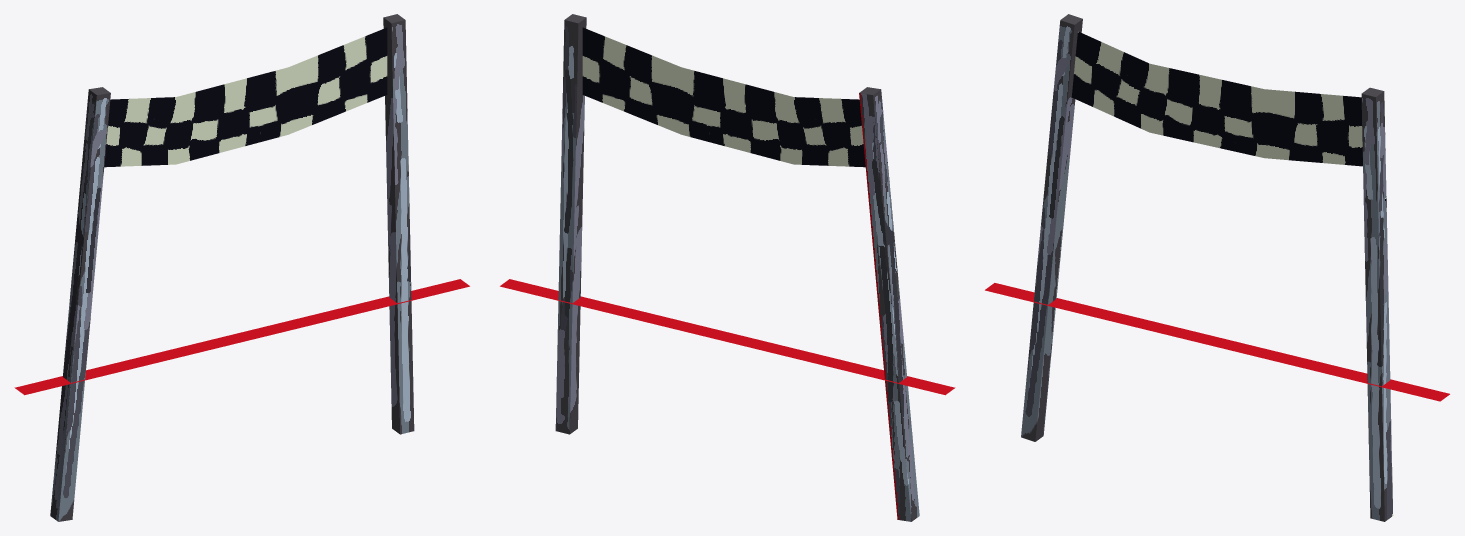
The model's file is FinishLine.glb.
3 views of the same model, side by side, from view 1: azimuth 30°, elevation 25°; view 2: azimuth 150°, elevation 25°; view 3: azimuth 330°, elevation 25° (orthographic). The views are drawn at different scales.
Parts seen in each view (by area): view 1: Cube.008; view 2: Cube.008; view 3: Cube.008.
Boxes of the visible parts, box(x1,y1,x2,y2) form: Cube.008: box(14, 14, 469, 521); Cube.008: box(500, 14, 955, 521); Cube.008: box(985, 14, 1449, 521).
Size of the model in its own units: 13.83 by 12.41 by 0.5469.
1 material, 1 textured.
